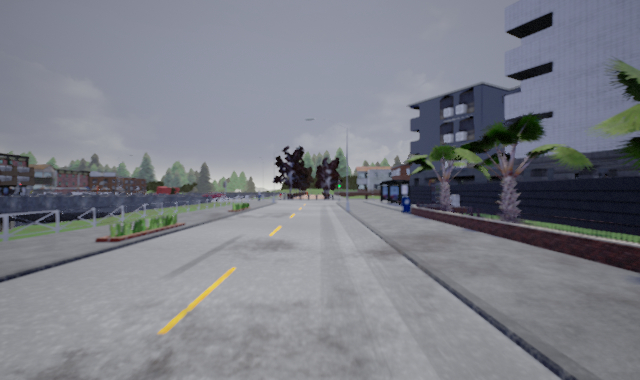traffic_light: (336, 176, 344, 191)
